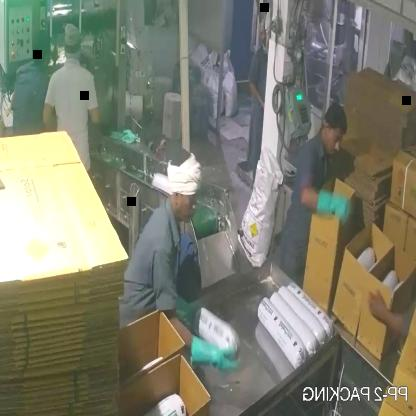glove: (187, 328, 241, 385), (313, 182, 355, 232)
no_glove: (365, 289, 404, 339), (246, 80, 269, 110)
